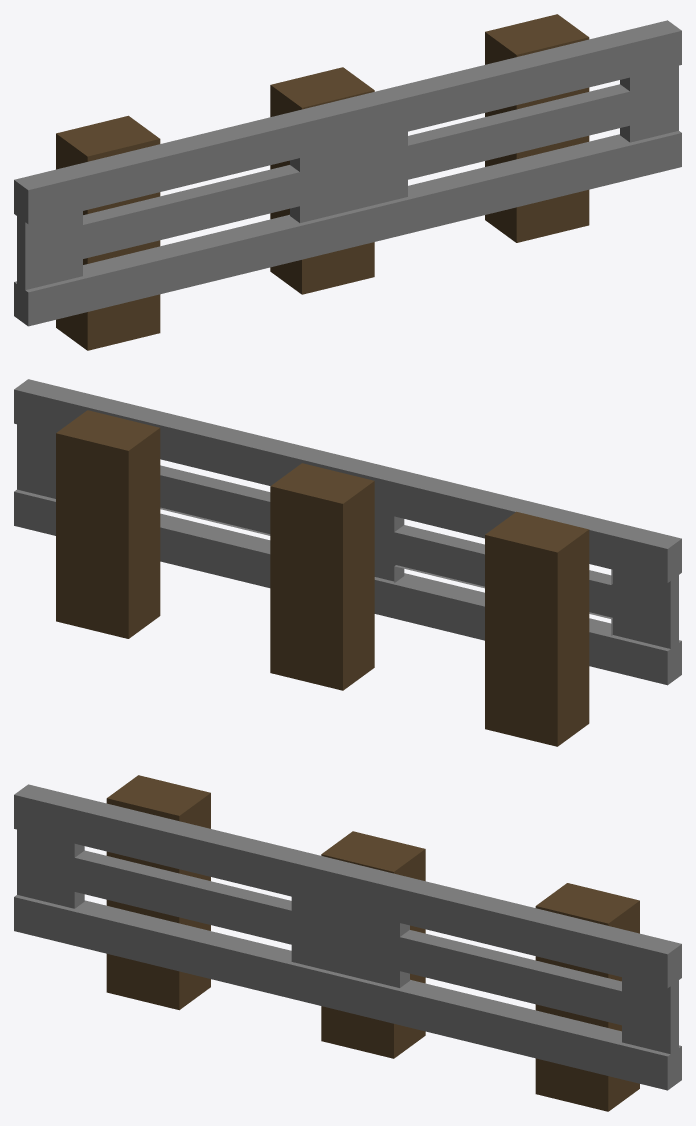
The model's file is guardrail.fbx.
The picture shows the model from 3 angles, top to bottom: view 1: azimuth 30°, elevation 25°; view 2: azimuth 150°, elevation 25°; view 3: azimuth 330°, elevation 25°; orthographic projection.
Visible parts, largest first — view 1: Cube.003, Cube.002, Cube.001, Cube; view 2: Cube.003, Cube.002, Cube.001, Cube; view 3: Cube.003, Cube.002, Cube.001, Cube.
Boxes of the visible parts, x1=… form: Cube.003: x1=14, y1=20, x2=681, y2=326; Cube.002: x1=56, y1=115, x2=160, y2=350; Cube.001: x1=485, y1=14, x2=589, y2=242; Cube: x1=270, y1=67, x2=374, y2=294; Cube.003: x1=14, y1=379, x2=681, y2=685; Cube.002: x1=485, y1=511, x2=589, y2=746; Cube.001: x1=56, y1=410, x2=160, y2=638; Cube: x1=270, y1=463, x2=374, y2=690; Cube.003: x1=14, y1=784, x2=681, y2=1090; Cube.002: x1=106, y1=775, x2=210, y2=1010; Cube.001: x1=535, y1=883, x2=639, y2=1111; Cube: x1=321, y1=831, x2=425, y2=1058.
Bounding box in the file's own units: 1004 × 285 × 129.
